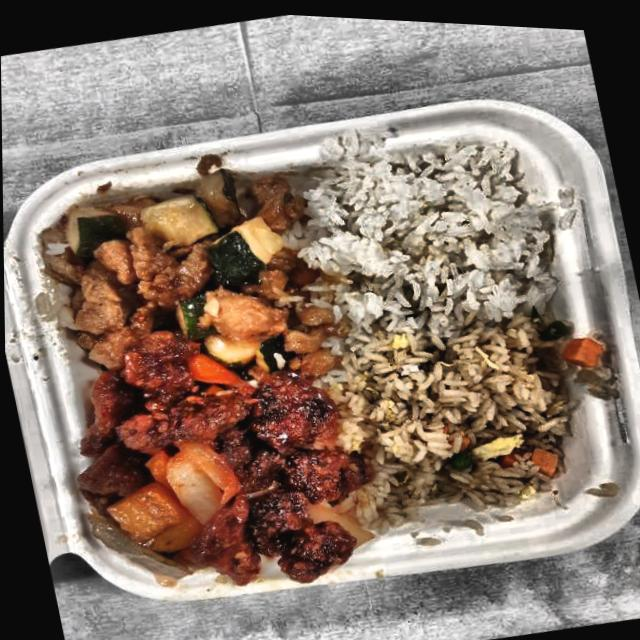Food: (48, 323, 392, 618), (313, 275, 608, 540), (17, 147, 324, 390), (292, 101, 575, 342)
